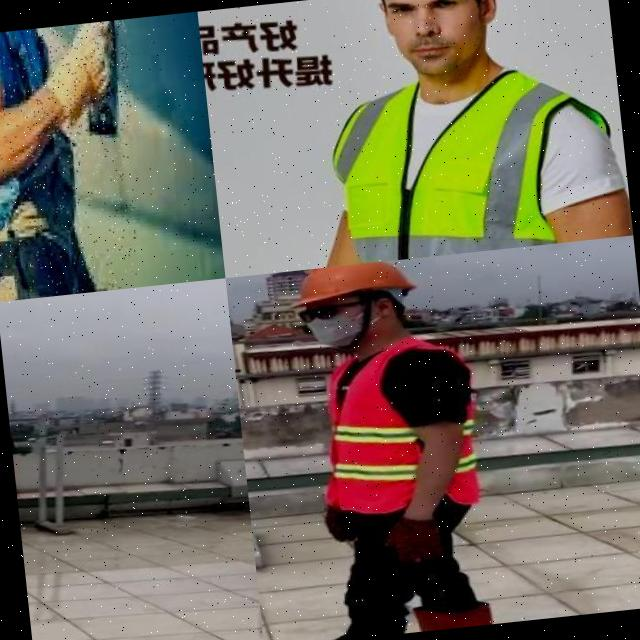boots: (384, 600, 492, 634)
helmet: (292, 258, 418, 312)
vest: (300, 53, 614, 268), (310, 330, 492, 522)
